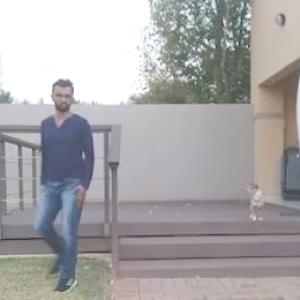follow: (39, 70, 112, 299)
